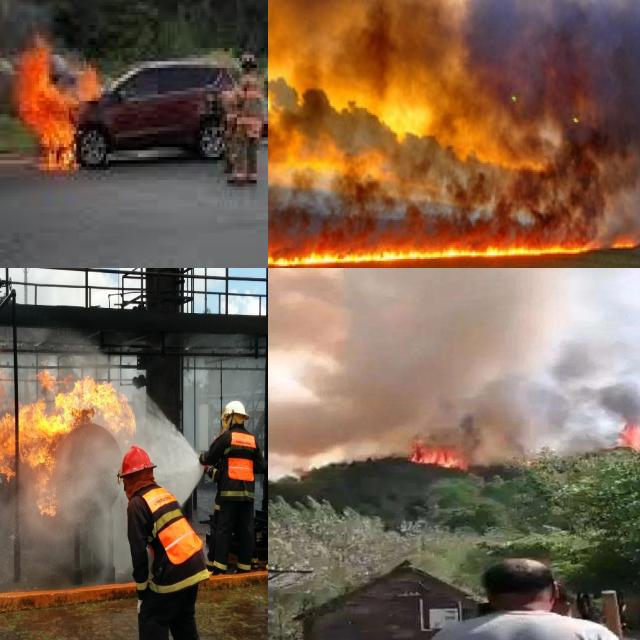fire: (0, 356, 137, 514), (268, 218, 634, 268), (5, 32, 113, 176), (407, 443, 482, 476), (602, 418, 640, 452)
smoke: (268, 0, 640, 184), (268, 268, 553, 441), (567, 342, 640, 414)
